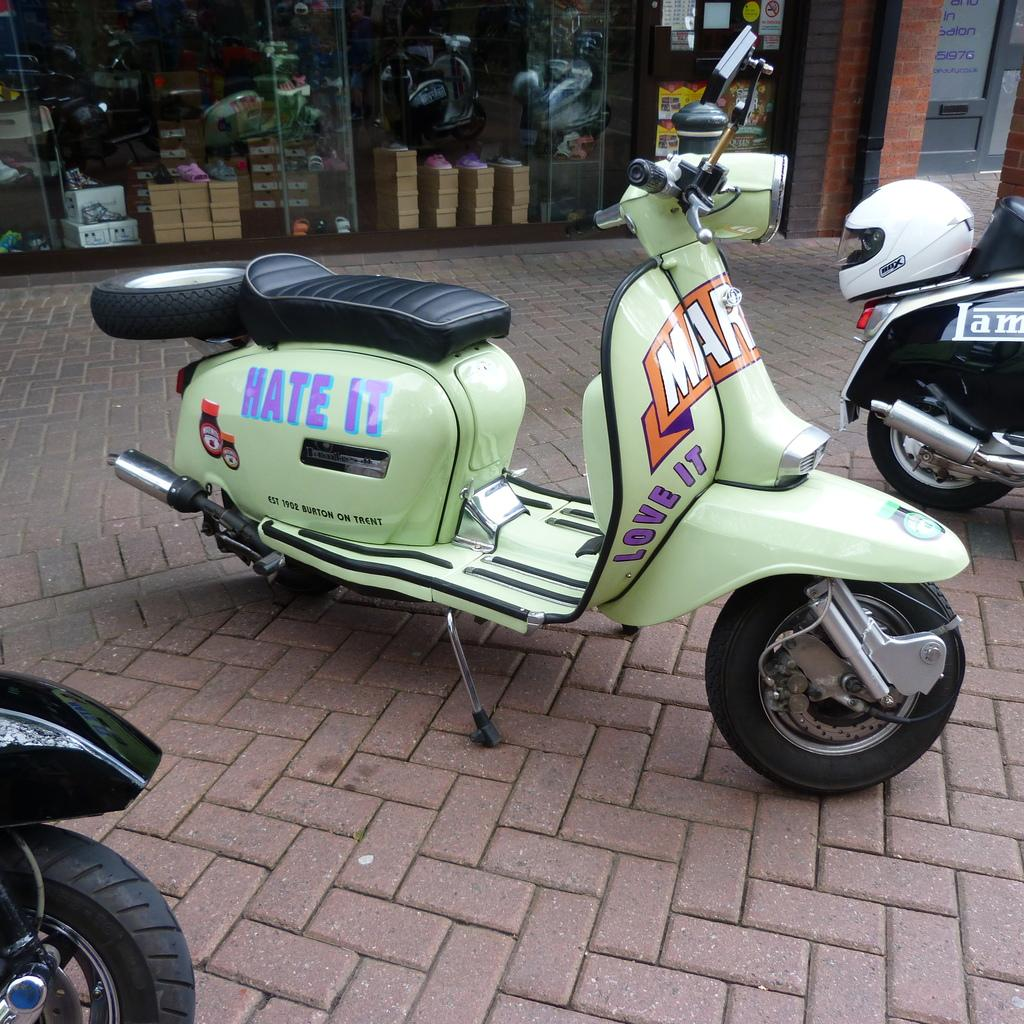helmet: (835, 179, 975, 304), (510, 69, 546, 104)
